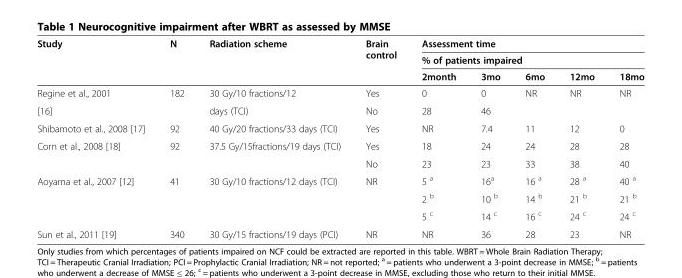table: (36, 37, 643, 239)
table column: (196, 37, 352, 239), (36, 37, 156, 239), (408, 37, 467, 239), (352, 37, 408, 239), (556, 37, 606, 239), (467, 37, 512, 239), (512, 37, 556, 239), (156, 37, 196, 239), (606, 37, 643, 239)
table column header: (36, 37, 643, 84)
table row: (36, 206, 643, 225), (36, 101, 643, 119), (36, 136, 643, 154), (36, 171, 643, 189), (36, 67, 643, 84), (36, 84, 643, 101), (36, 119, 643, 136), (36, 154, 643, 171), (36, 189, 643, 206), (36, 51, 643, 67), (36, 37, 643, 51), (36, 225, 643, 239)
table spanning cell: (196, 171, 352, 225), (196, 37, 352, 84), (408, 37, 643, 67), (36, 171, 156, 225), (36, 37, 156, 84), (196, 136, 352, 171), (36, 136, 156, 171), (352, 37, 408, 84), (156, 171, 196, 225), (156, 37, 196, 84), (156, 136, 196, 171)
